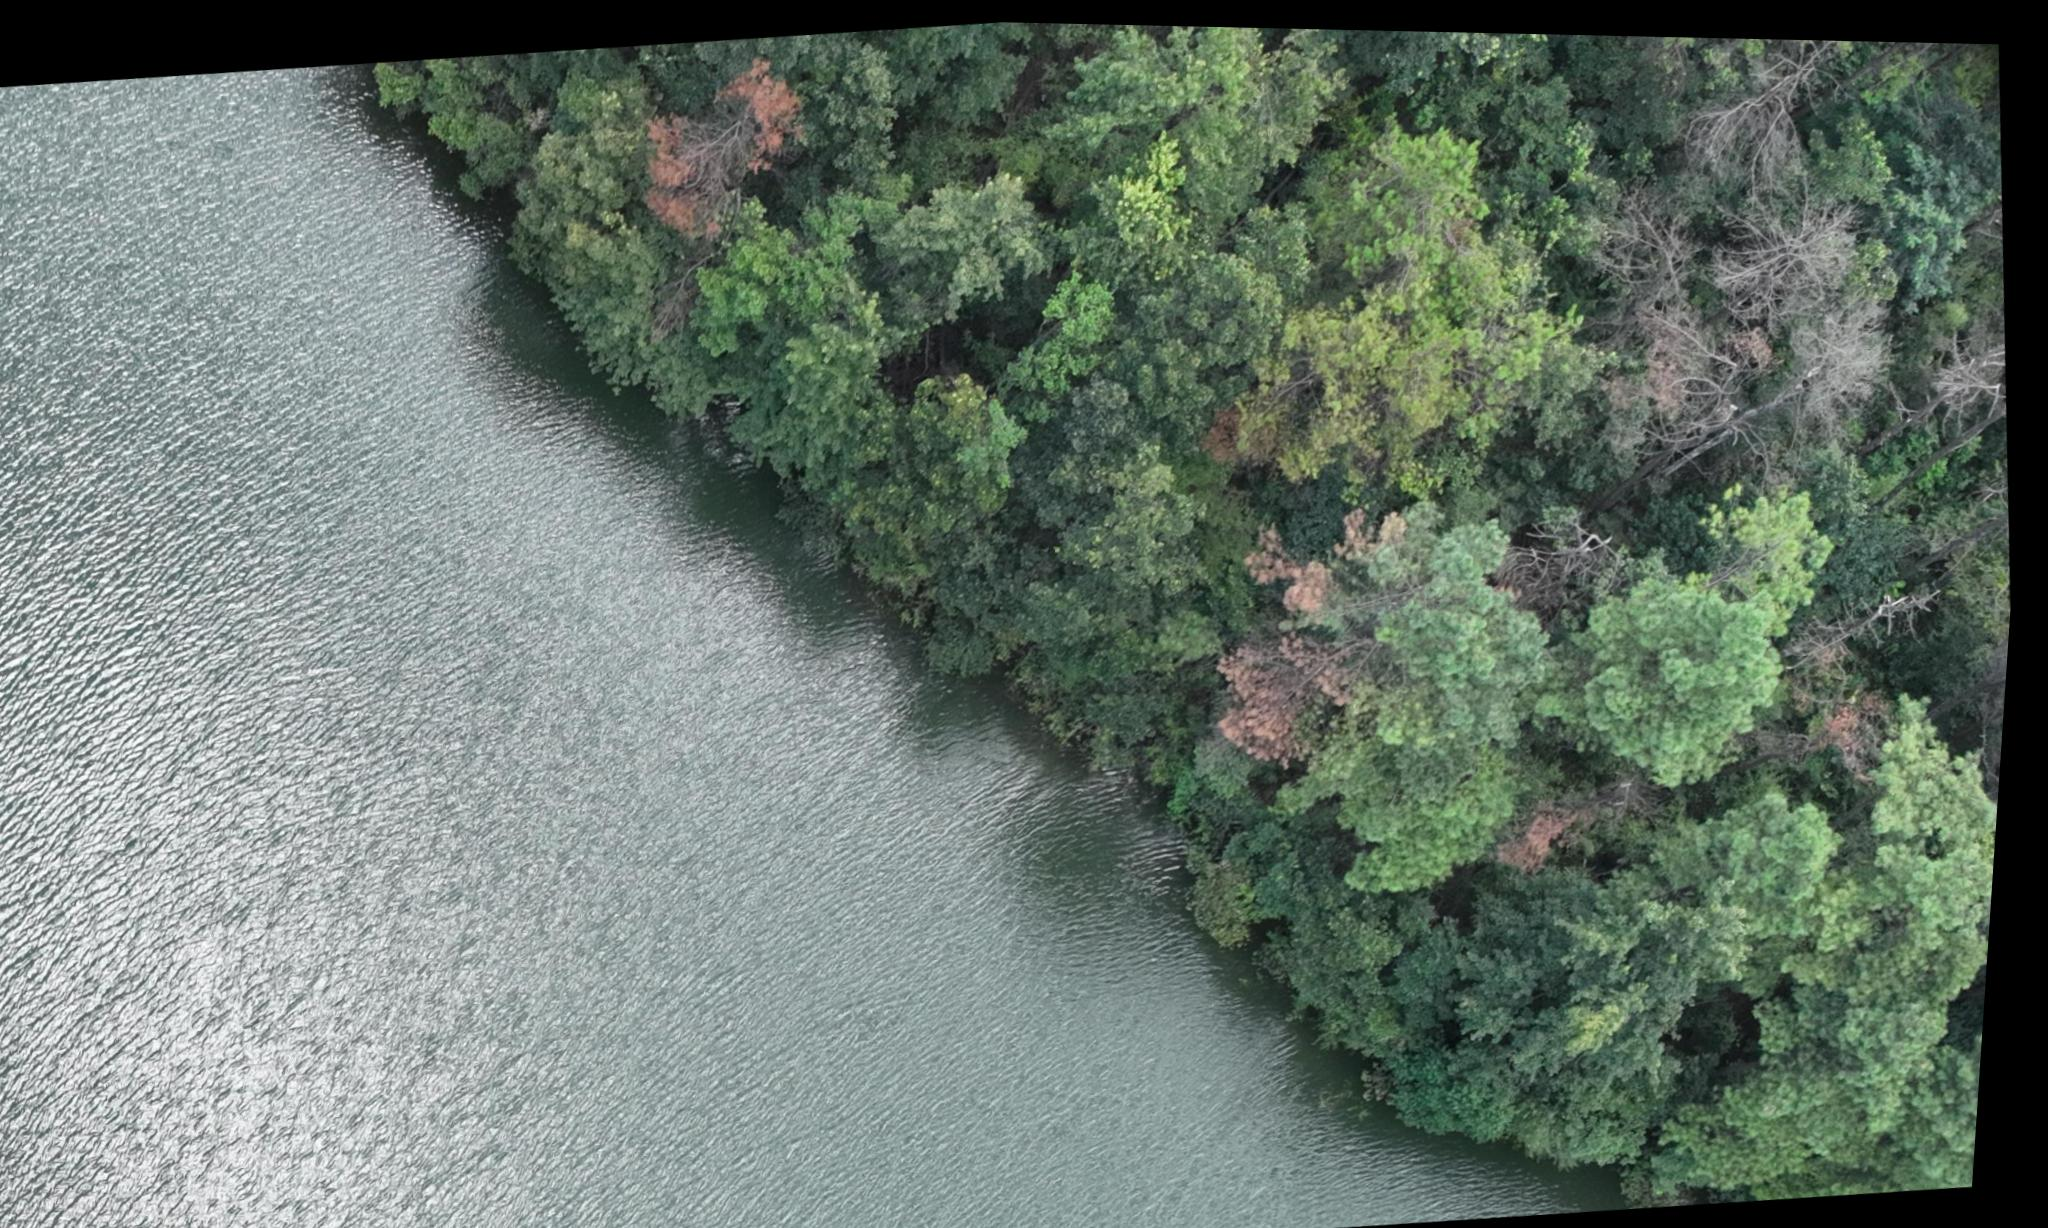dead: (1590, 177, 1906, 460), (1627, 29, 1862, 208)
heavy: (620, 61, 824, 230)
light: (1218, 507, 1548, 769)
